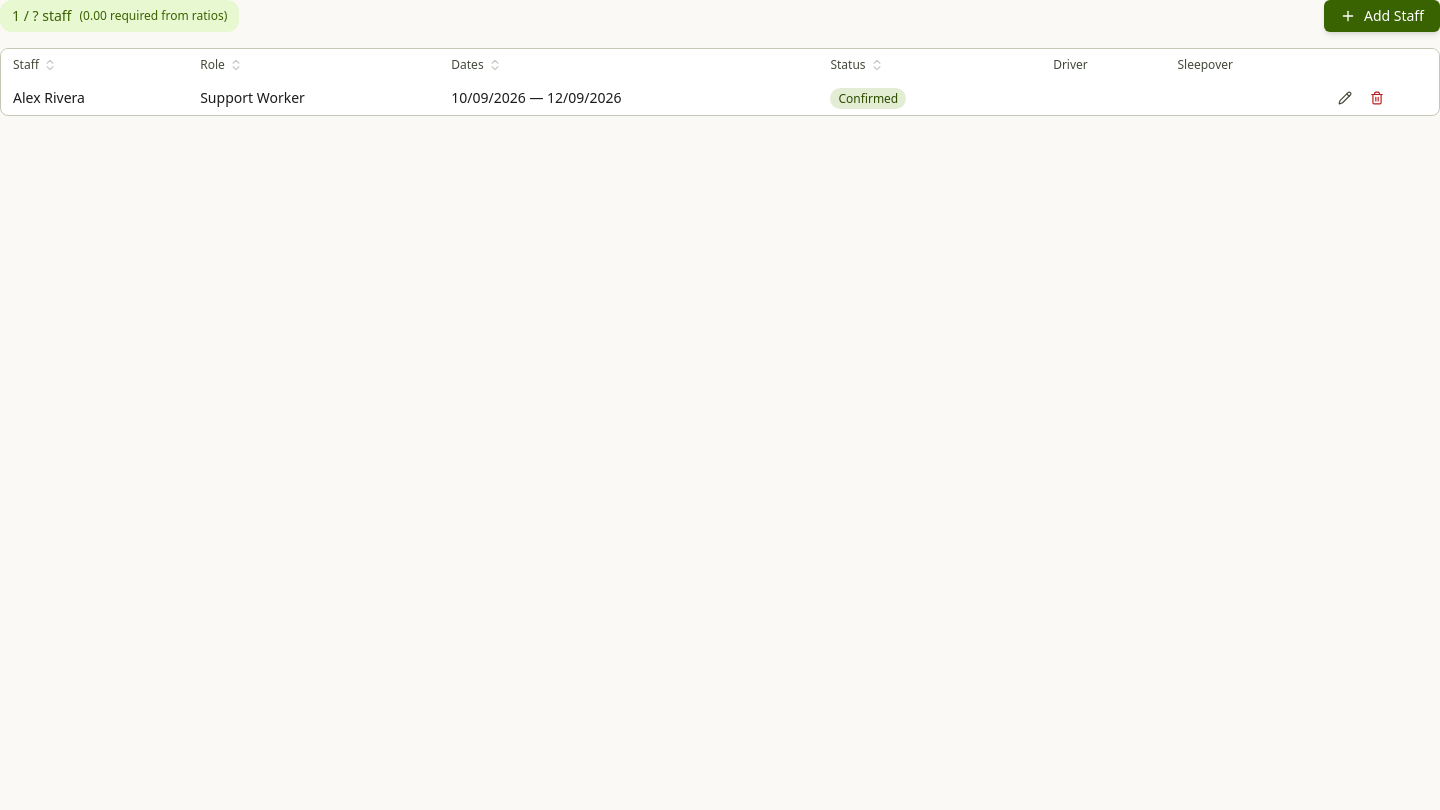
Test: StaffTab — edit modal live conflict gate (trip-side parity) › renders findings from the live dry-run check when the edit modal opens
Step 1. Click the button titled "Edit assignment" → coordinates (1345, 98), box [1333,86,1357,110]
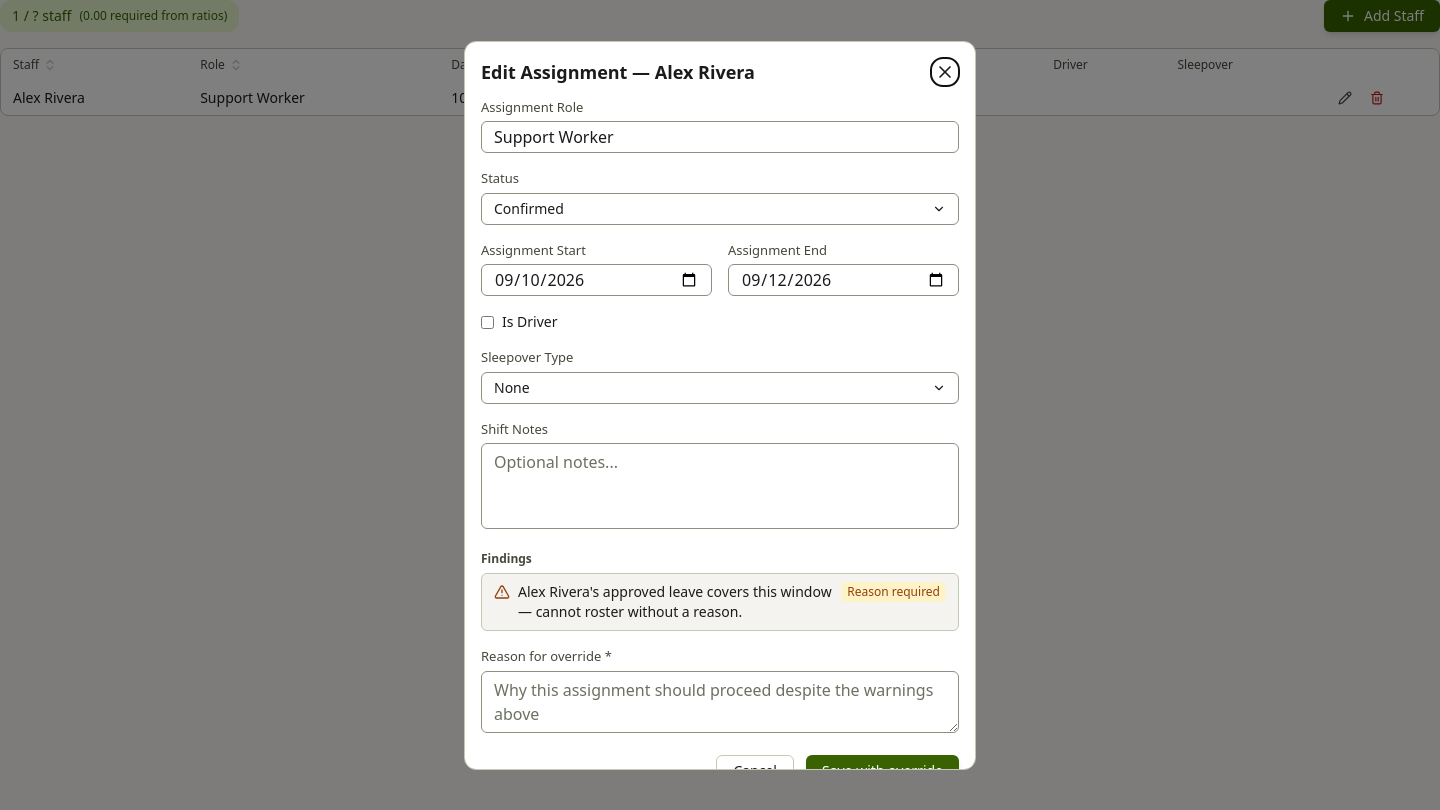
Check: the text "approved leave covers this window" is shown, box [518,582,832,621]
